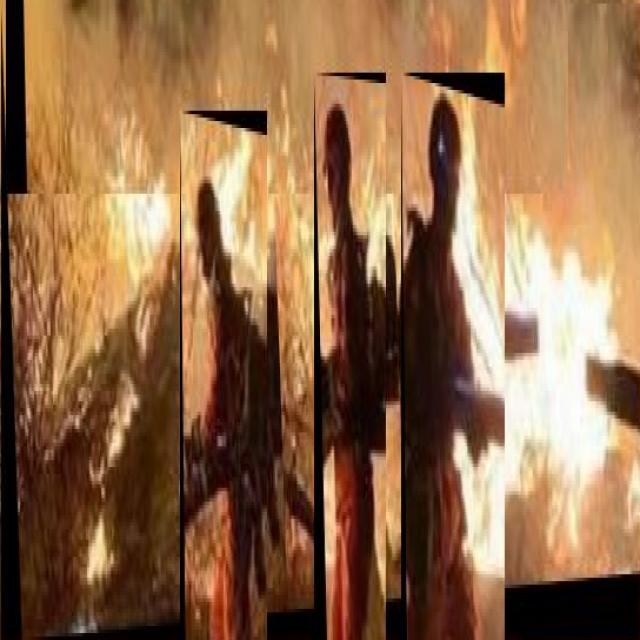fire: (1, 3, 640, 640)
